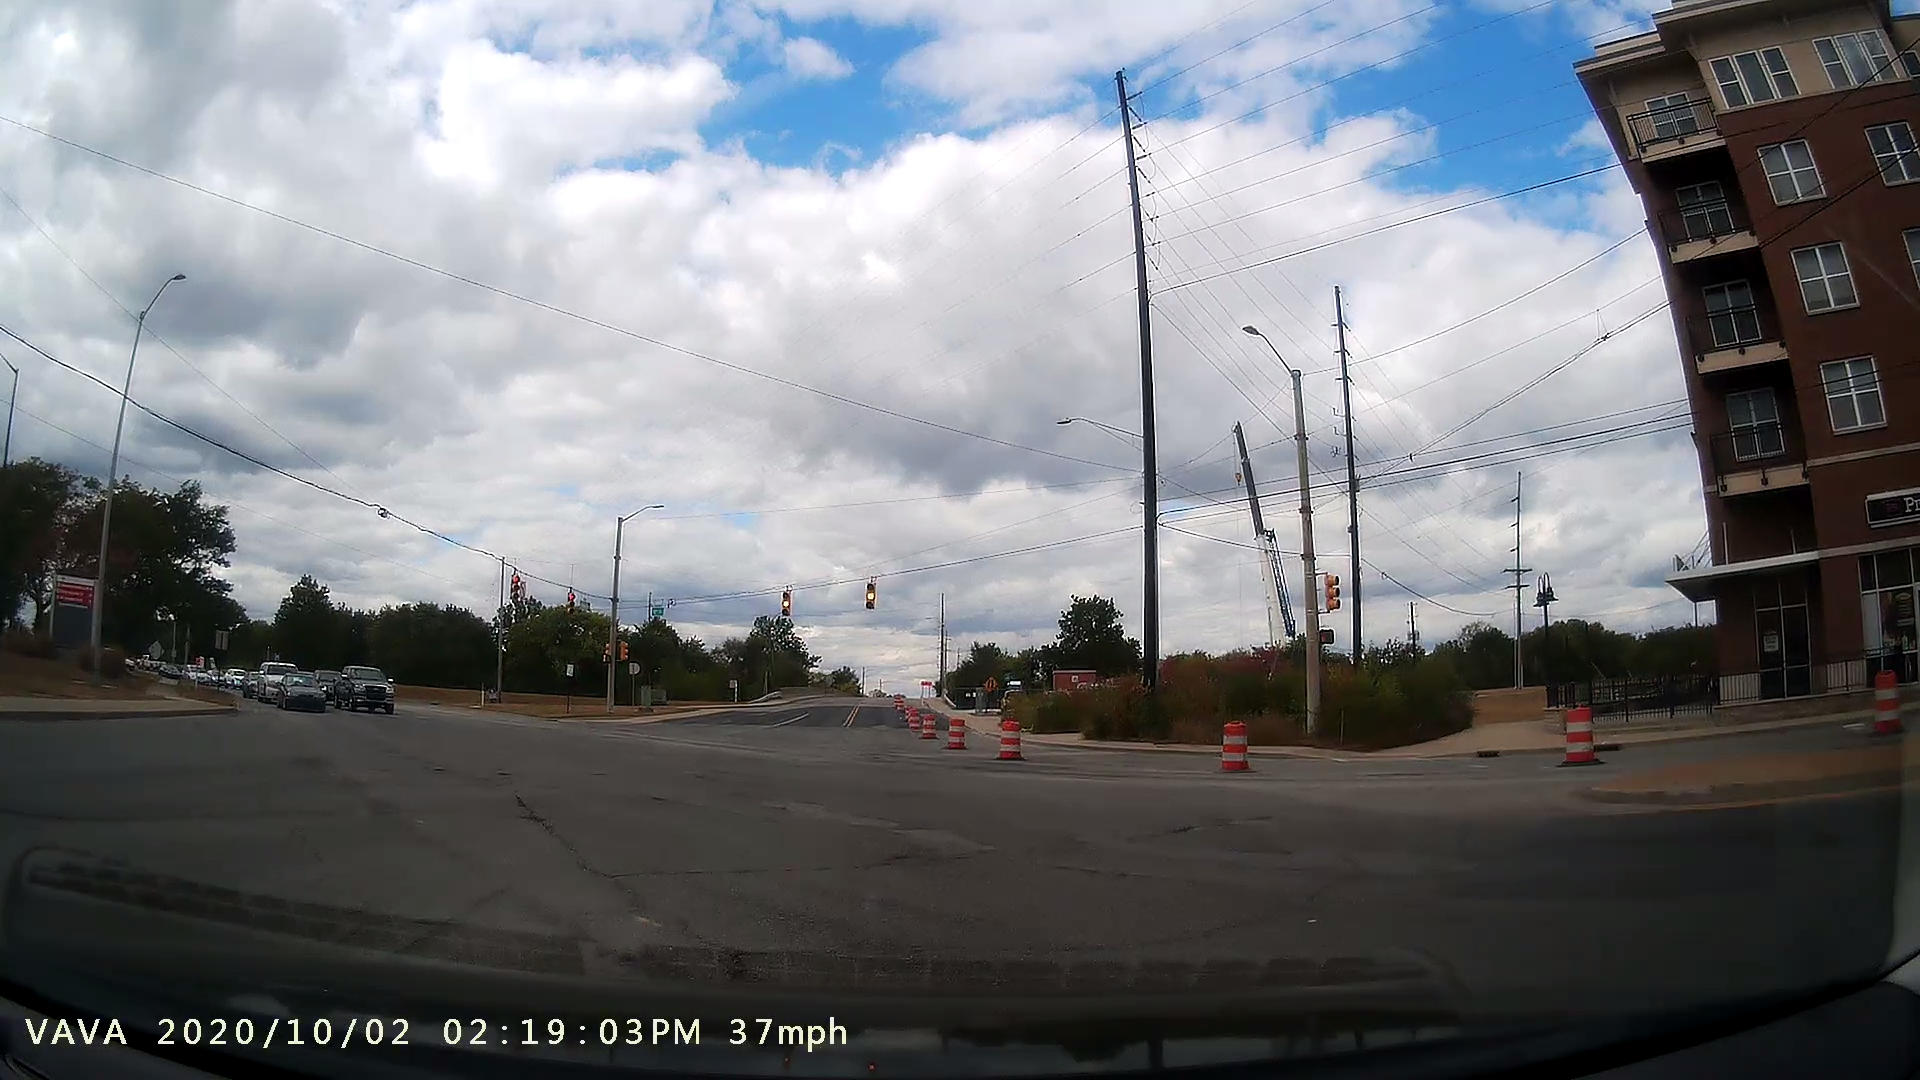const_barrel: (1545, 694, 1611, 775), (1216, 717, 1251, 778), (992, 711, 1029, 764), (940, 713, 971, 762)
